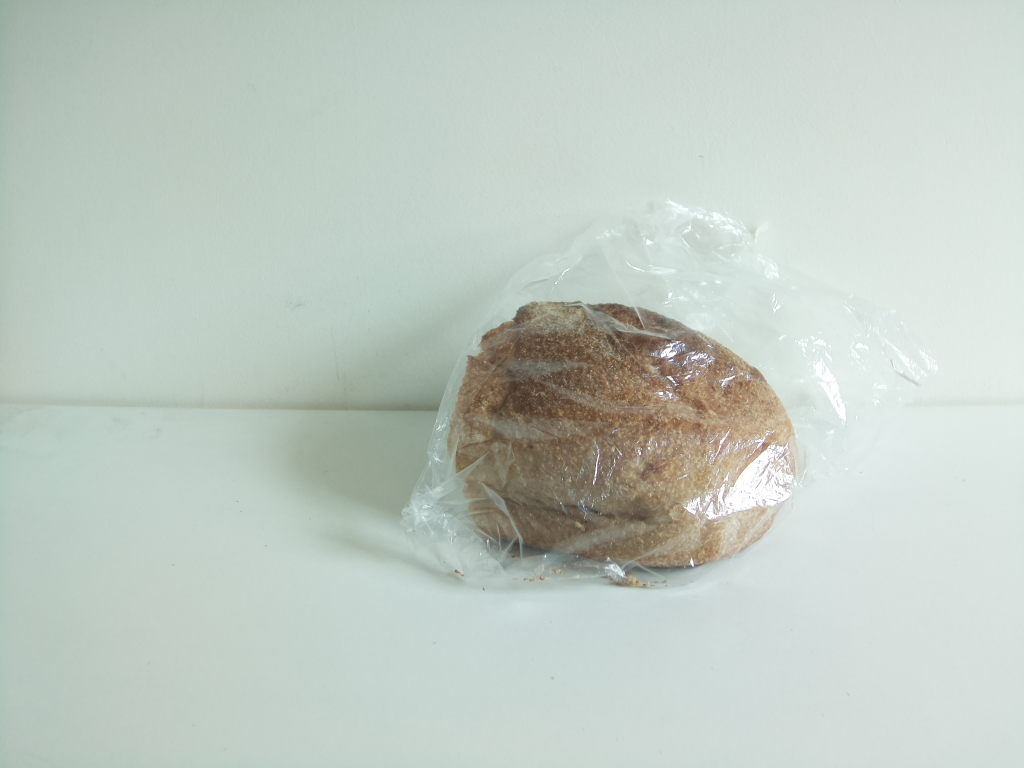bread: (442, 298, 798, 570)
